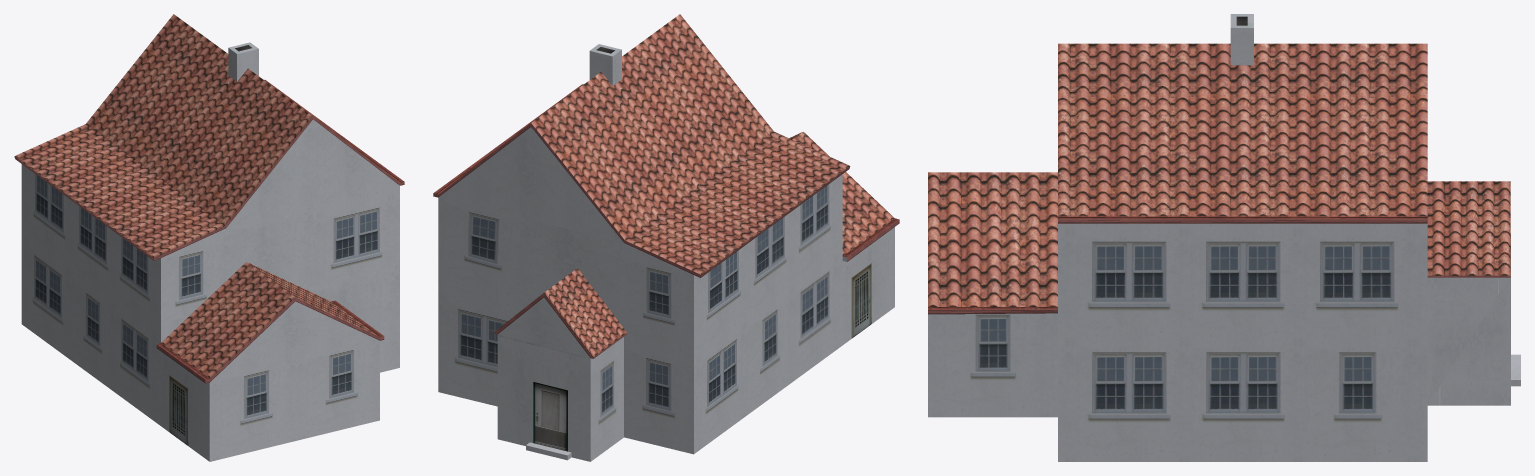
File: preshoos03_sfn02.obj
3 renders of one model, left to right at view 1: azimuth 30°, elevation 25°; view 2: azimuth 150°, elevation 25°; view 3: azimuth 270°, elevation 25°, orthographic. The views are drawn at different scales.
Parts seen in each view (by area): view 1: preshoos03_SFN02; view 2: preshoos03_SFN02; view 3: preshoos03_SFN02.
Part boxes in pixels (x1=…): preshoos03_SFN02: x1=14, y1=14, x2=404, y2=461; preshoos03_SFN02: x1=433, y1=14, x2=899, y2=461; preshoos03_SFN02: x1=928, y1=14, x2=1520, y2=461.
Bounding box in the file's own units: 11.54 × 12.75 × 17.8.
Materials: 8 (8 with a texture image).
